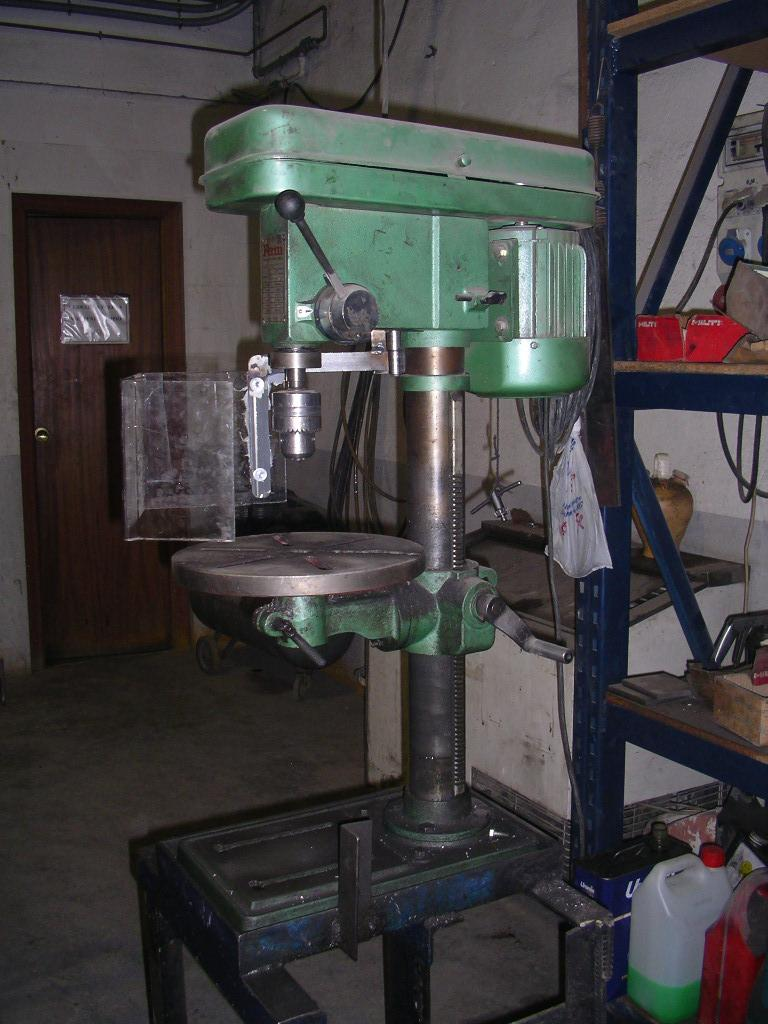falta_resguardo: (268, 340, 324, 461)
sin_senalizacion_riesgos: (339, 212, 434, 274)
